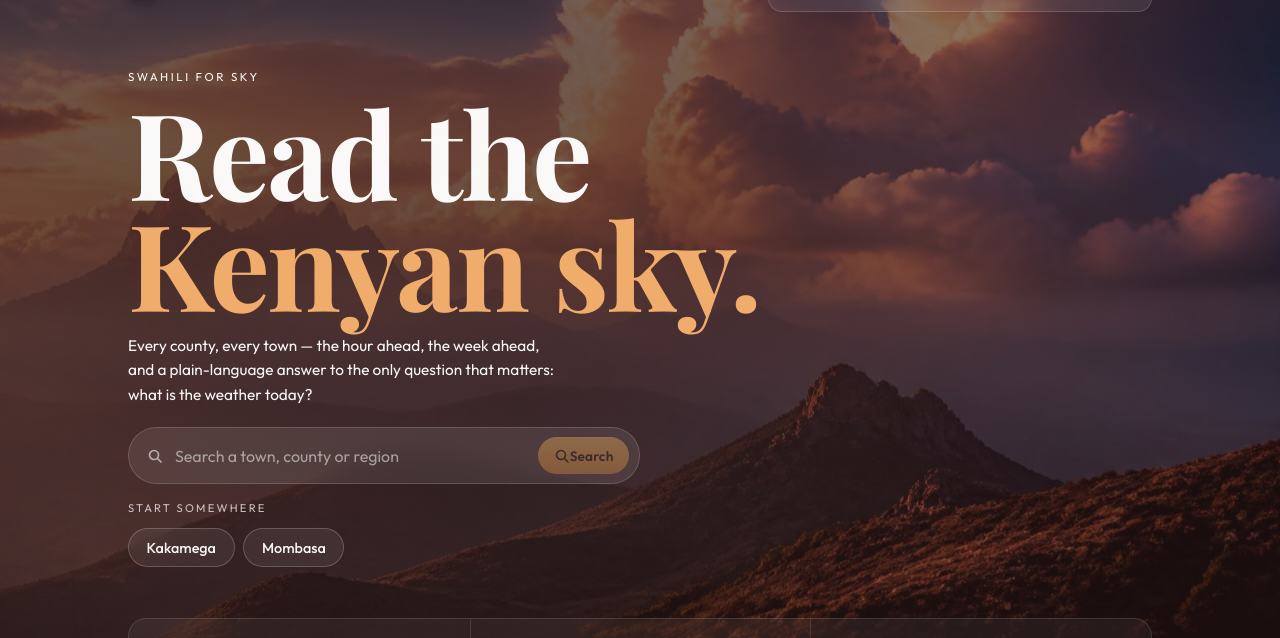
Test case: dashboard › wraps the hourly strip so its scroll edge can be signalled
Click the button "Kakamega": (181, 548) x1=128 y1=528 x2=235 y2=567
(page scrolled)
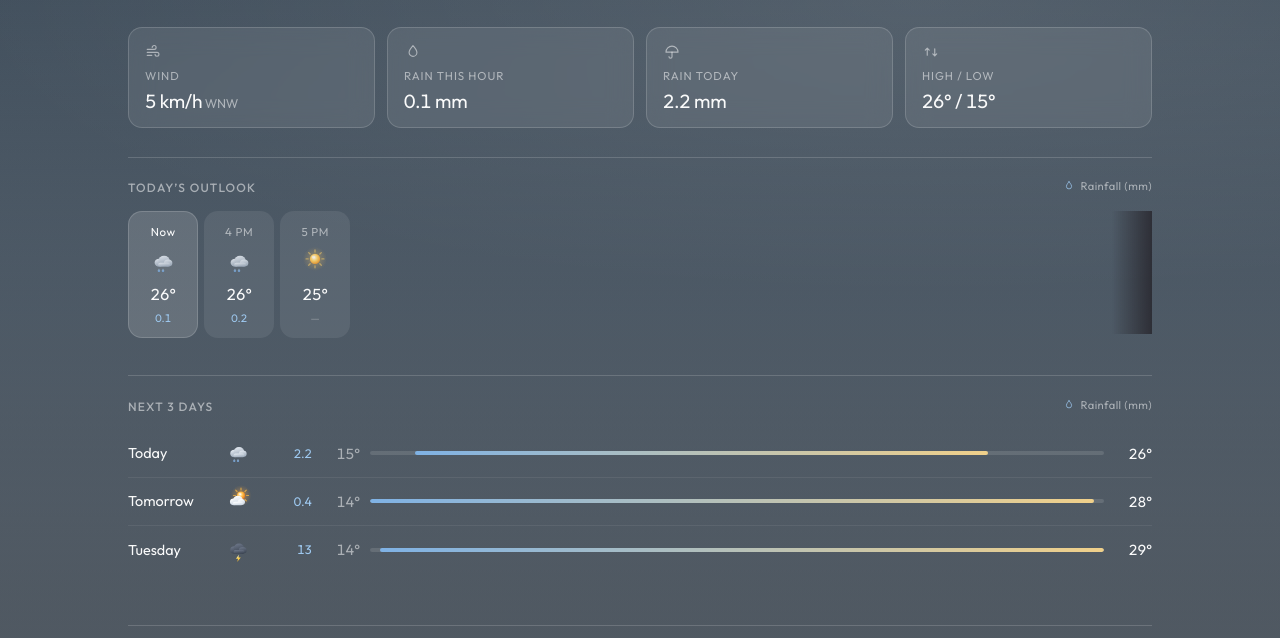
Expected: the list with class "hourly" is shown, x1=128 y1=211 x2=350 y2=338
